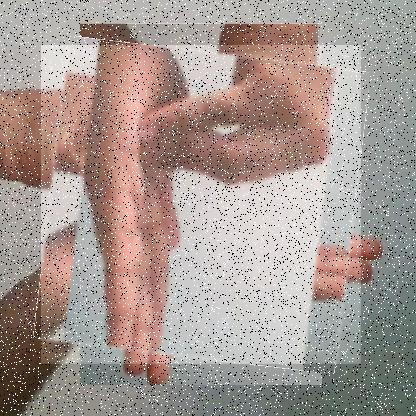Z: (41, 45, 362, 365)
